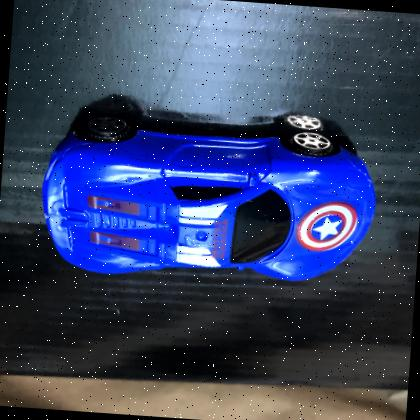Car: (41, 115, 377, 281)
